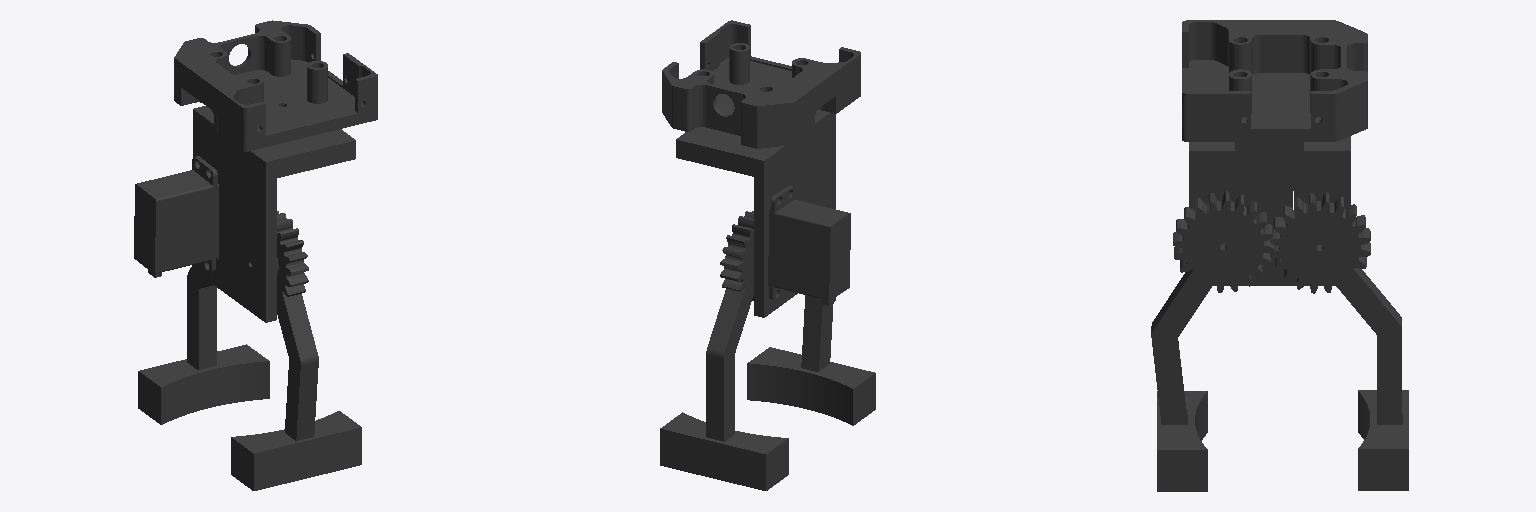
robot.urdf — my_gripper:
<?xml version="1.0" encoding="utf-8"?>
<robot  name="my_gripper">
 
  <link name="gripper_base_link">
    <visual>
      <origin
        xyz="0 0 0"
        rpy="0 0 0"/>
      <geometry>
       <!-- <box size="1 1 1"/> -->
       <mesh filename="package://end_effector/meshes/GripperViz.stl" scale="0.001 0.001 0.001"/>
      
      </geometry>
      <material name="blue_material">
        <color rgba="0.3 0.3 0.3 1"/> 
      </material>
    </visual>
   
    <collision>
     <origin
        xyz="0 0 0"
        rpy="0 0 0"/>
      <geometry>
        <box size="0.06 0.1 0.03" />
      </geometry>
    </collision>
    <!-- <inertial>
      <mass value="0.1" />
      <inertia ixx="0.001" ixy="0" ixz="0" iyy="0.001" iyz="0" izz="0.001" />
    </inertial> -->
  </link>
</robot>

--- What the picture shows (computed from the rendered views, not written in the file) ---
The picture shows the robot from 3 angles, left to right: view 1: azimuth 30°, elevation 25°; view 2: azimuth 150°, elevation 25°; view 3: azimuth 270°, elevation 25°; orthographic projection.
Model my_gripper with 1 links and 0 joints (none), rooted at gripper_base_link, posed every joint at zero.
Visible links, largest first — view 1: gripper_base_link; view 2: gripper_base_link; view 3: gripper_base_link.
Link boxes in pixels (<box>): gripper_base_link: <box>134,20,377,490</box>; gripper_base_link: <box>660,20,875,490</box>; gripper_base_link: <box>1151,20,1408,491</box>.
Size in the robot's own frame: 0.096 by 0.1114 by 0.1976 metres.
1 mesh visuals loaded from 1 distinct referenced files (1 binary STL).